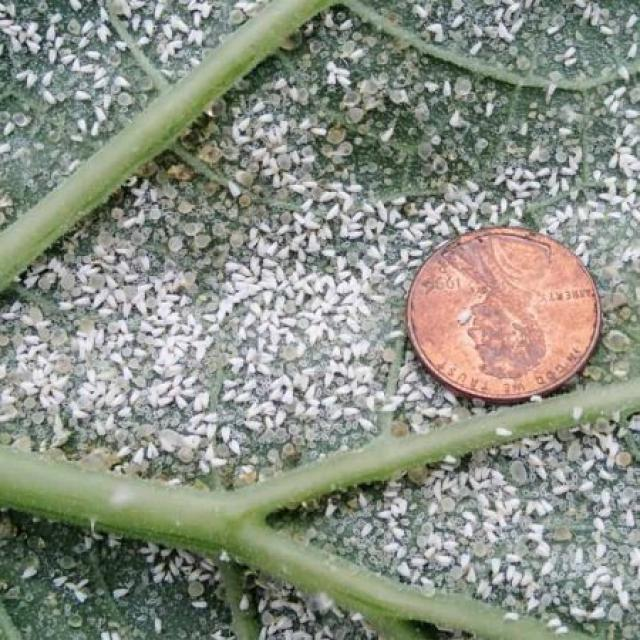Whitefly: (0, 8, 640, 497), (267, 407, 640, 640), (0, 508, 395, 640)
